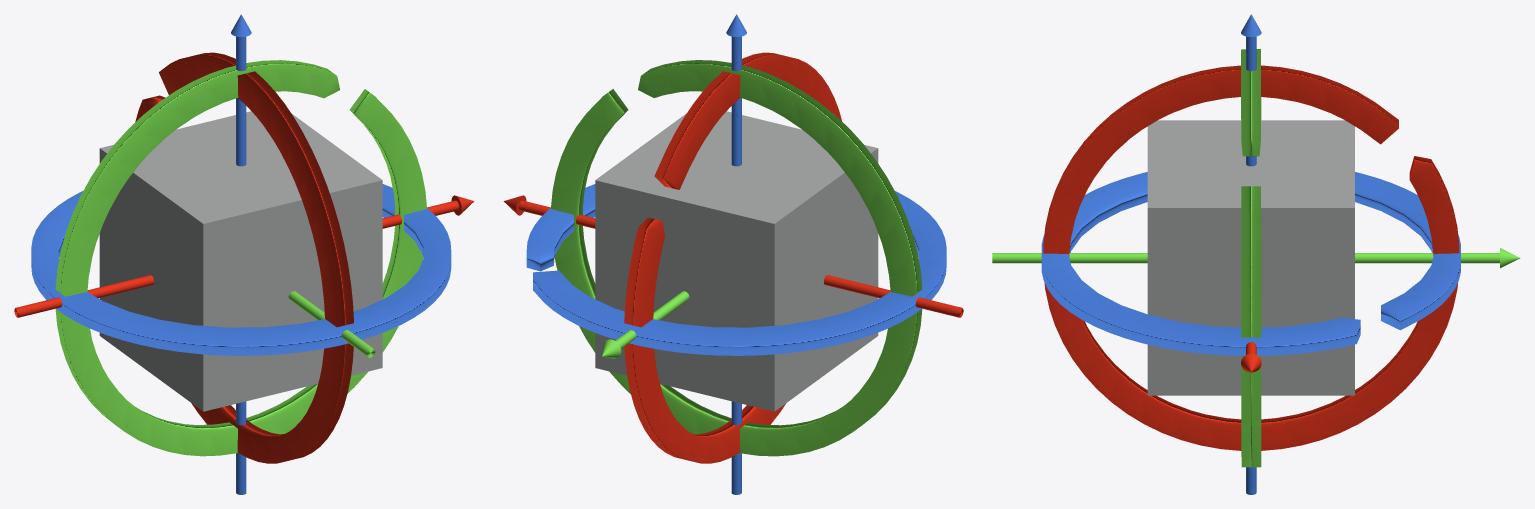
Rendered from The actual cube.glb.
3 views of the same model, side by side, from view 1: azimuth 30°, elevation 25°; view 2: azimuth 150°, elevation 25°; view 3: azimuth 270°, elevation 25° (orthographic).
Parts seen in each view (by area): view 1: Cube, Cylinder.004, Cylinder.003, Cylinder.005, Cylinder, Cylinder.002, Cylinder.001; view 2: Cube, Cylinder.004, Cylinder.003, Cylinder.005, Cylinder, Cylinder.002, Cylinder.001; view 3: Cube, Cylinder.005, Cylinder.003, Cylinder.004, Cylinder.001, Cylinder.
Part boxes in pixels (left/top/right/bottom): Cube: left=99, top=111, right=382, bottom=411; Cylinder.004: left=55, top=60, right=426, bottom=456; Cylinder.003: left=31, top=184, right=451, bottom=355; Cylinder.005: left=135, top=52, right=353, bottom=463; Cylinder: left=236, top=36, right=246, bottom=494; Cylinder.002: left=14, top=200, right=459, bottom=317; Cylinder.001: left=288, top=291, right=375, bottom=357; Cube: left=595, top=111, right=878, bottom=411; Cylinder.004: left=551, top=60, right=922, bottom=456; Cylinder.003: left=526, top=184, right=946, bottom=355; Cylinder.005: left=624, top=52, right=841, bottom=463; Cylinder: left=731, top=36, right=741, bottom=494; Cylinder.002: left=518, top=200, right=963, bottom=317; Cylinder.001: left=615, top=291, right=689, bottom=348; Cube: left=1147, top=120, right=1354, bottom=395; Cylinder.005: left=1043, top=65, right=1459, bottom=450; Cylinder.003: left=1041, top=172, right=1460, bottom=355; Cylinder.004: left=1241, top=49, right=1261, bottom=467; Cylinder.001: left=992, top=253, right=1499, bottom=263; Cylinder: left=1246, top=36, right=1256, bottom=494.
Bounding box in the file's own units: 5.1 × 5.1 × 5.1.
